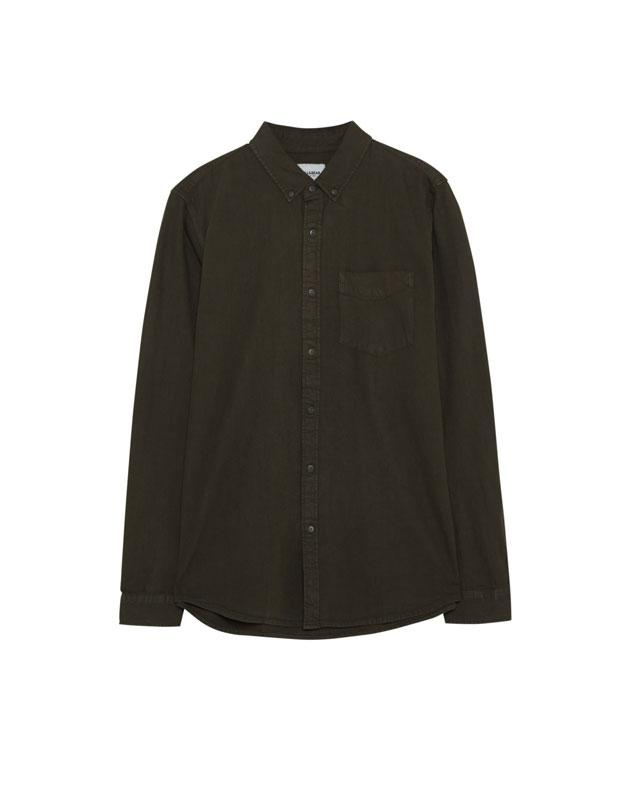teeshirt: (119, 108, 517, 640)
